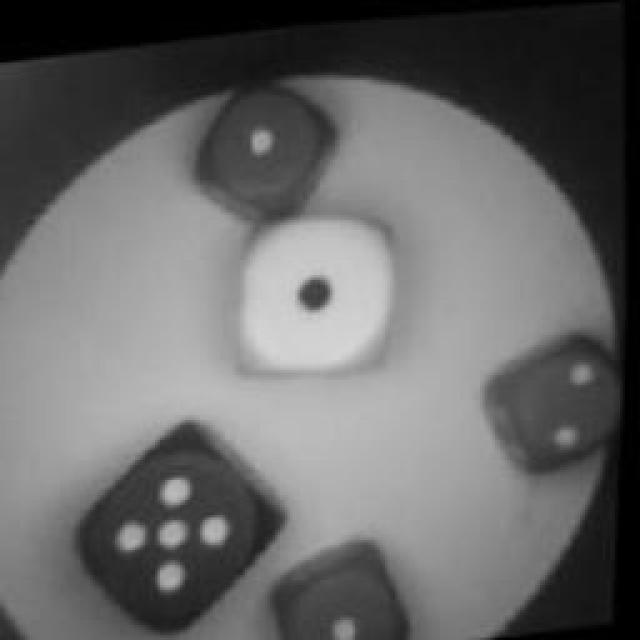dice_1: (229, 198, 409, 382), (192, 66, 338, 216), (285, 537, 420, 640)
dice_2: (496, 326, 629, 476)
dice_5: (86, 404, 292, 628)
